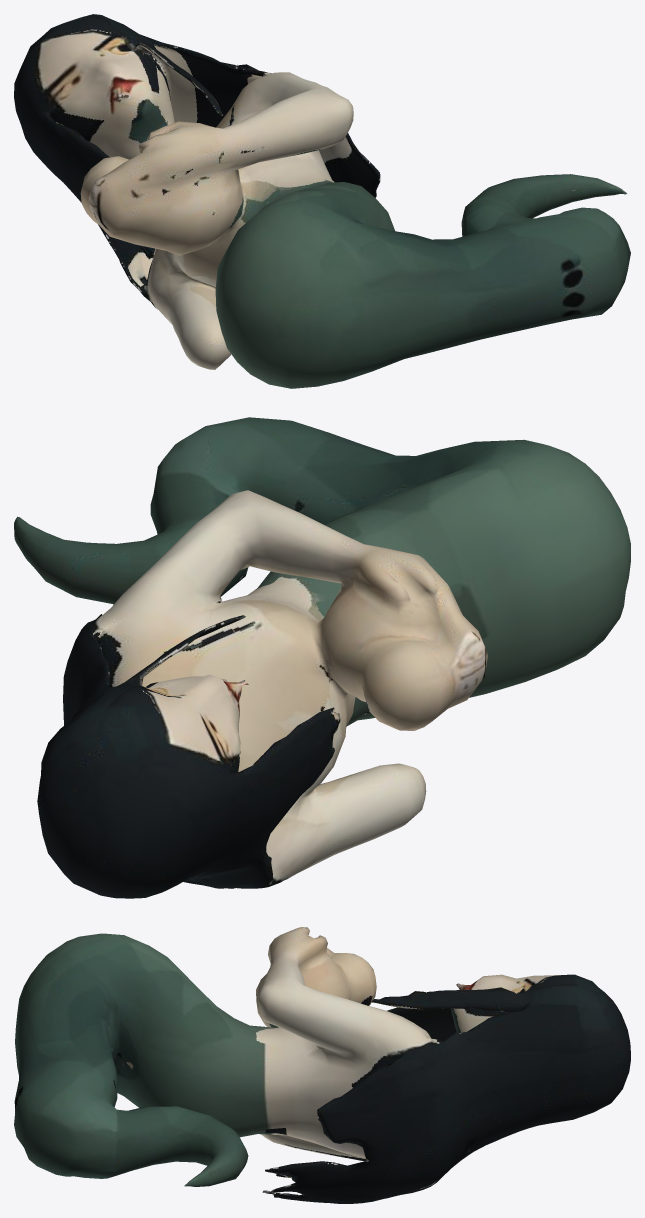
File: Nure_Onna.glb
3 views of the same model, one above another, from view 1: azimuth 30°, elevation 25°; view 2: azimuth 150°, elevation 25°; view 3: azimuth 270°, elevation 25° (orthographic). The views are drawn at different scales.
Visible parts, largest first — view 1: Retopo_nure-onna.002; view 2: Retopo_nure-onna.002; view 3: Retopo_nure-onna.002.
Boxes of the visible parts, <box> form: Retopo_nure-onna.002: <box>14,14,630,388</box>; Retopo_nure-onna.002: <box>14,417,630,898</box>; Retopo_nure-onna.002: <box>14,927,630,1203</box>.
Size of the model in its own units: 1.44 by 0.7914 by 1.96.
1 material, 1 textured.
